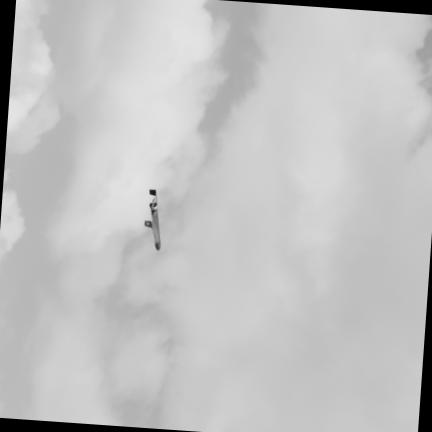Shahed: (144, 190, 159, 249)
